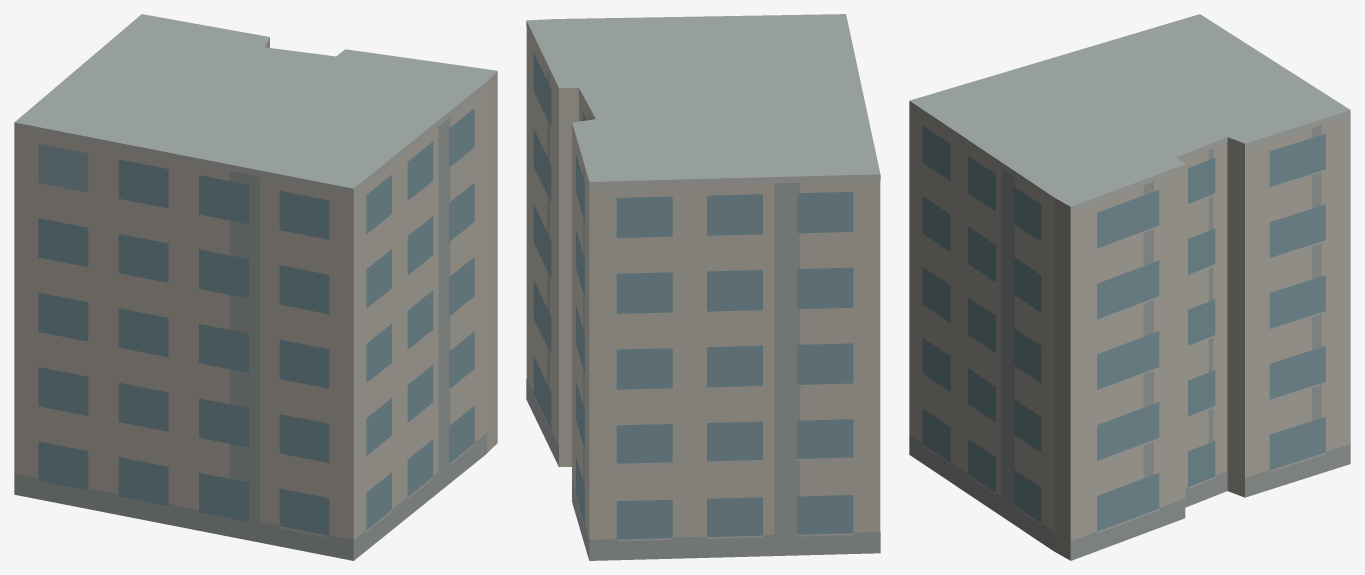
Rendered from survey-upis-32887385.glb.
The picture shows the model from 3 angles, left to right: view 1: azimuth 30°, elevation 25°; view 2: azimuth 150°, elevation 25°; view 3: azimuth 270°, elevation 25°; orthographic projection. The views are drawn at different scales.
Visible parts, largest first — view 1: survey-upis-32887385.tmp; view 2: survey-upis-32887385.tmp; view 3: survey-upis-32887385.tmp.
Part boxes in pixels (box(x1,y1,x2,y2)): survey-upis-32887385.tmp: box(14, 14, 497, 560); survey-upis-32887385.tmp: box(526, 14, 880, 560); survey-upis-32887385.tmp: box(909, 14, 1350, 560).
Bounding box in the file's own units: 17.07 × 14.6 × 16.5.
